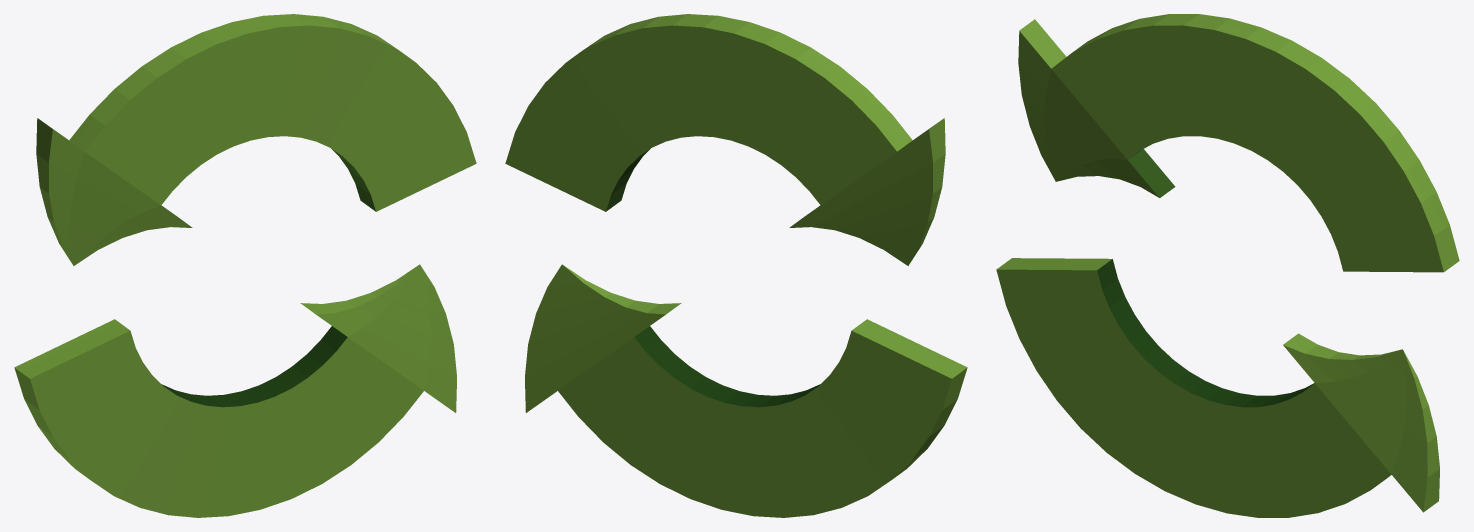
Rendered from refresh.glb.
3 views of the same model, side by side, from view 1: azimuth 30°, elevation 25°; view 2: azimuth 150°, elevation 25°; view 3: azimuth 330°, elevation 25° (orthographic).
Visible parts, largest first — view 1: Cube; view 2: Cube; view 3: Cube.
Boxes of the visible parts, <box> form: Cube: <box>14,14,476,517</box>; Cube: <box>505,14,967,517</box>; Cube: <box>996,14,1459,517</box>.
Bounding box in the file's own units: 4.35 × 4.46 × 0.2642.
1 material, 1 textured.
